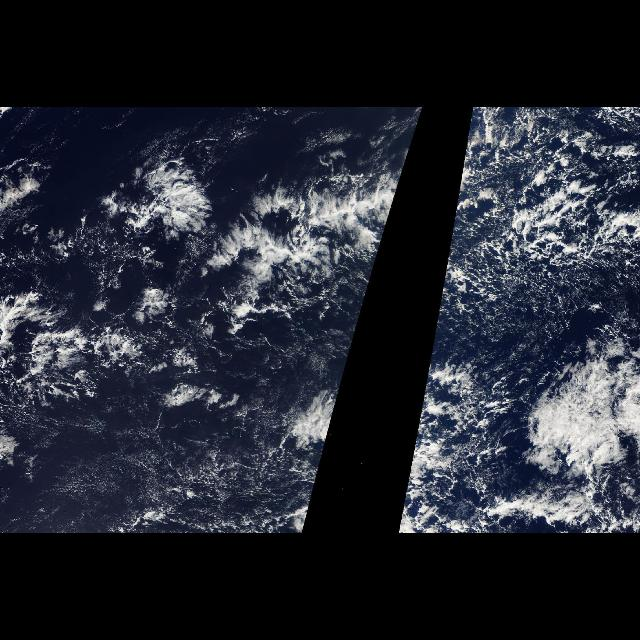Fish: (104, 132, 388, 374), (493, 310, 639, 530)
Gravel: (436, 108, 638, 396)
Sugar: (8, 383, 304, 531)
